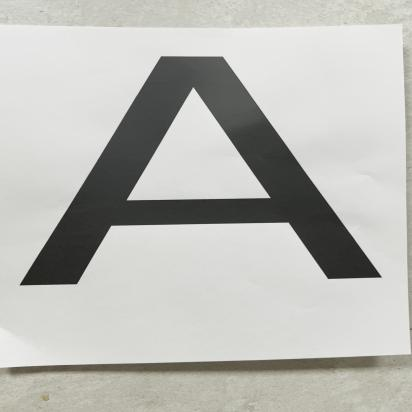seat: (17, 49, 412, 301), (18, 46, 401, 301)
